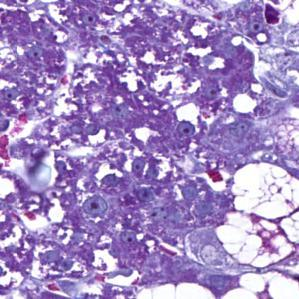ballooning: (213, 160, 298, 270)
